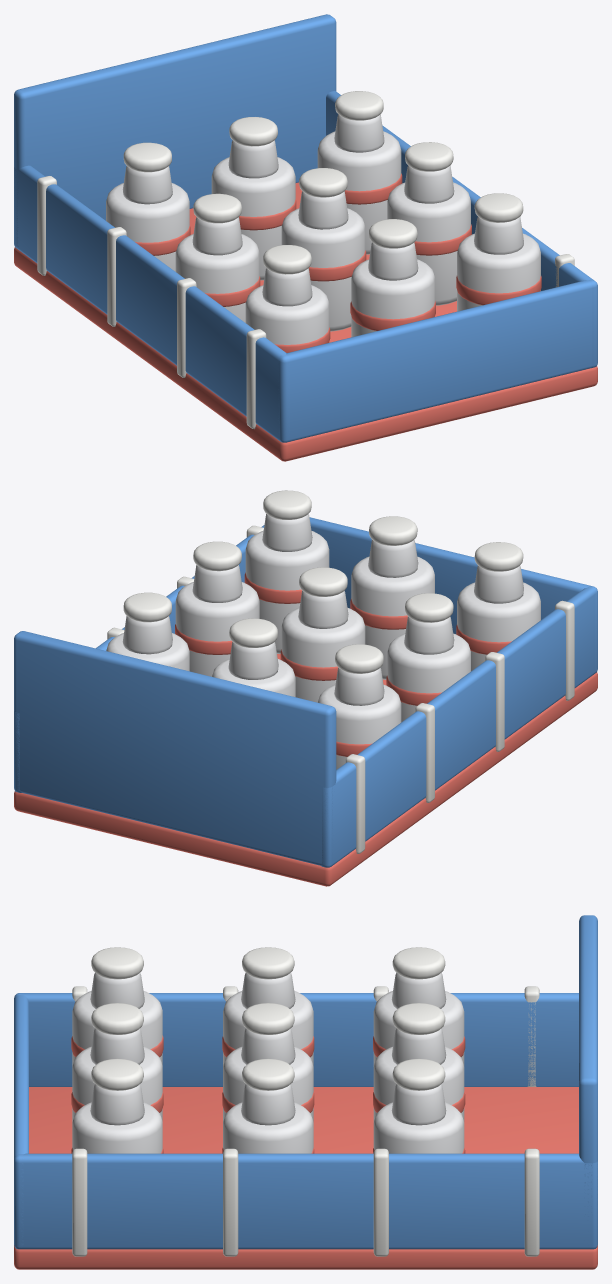
Rendered from Skrzynia_Otwarta_Banki.fbx.
3 views of the same model, one above another, from view 1: azimuth 30°, elevation 25°; view 2: azimuth 150°, elevation 25°; view 3: azimuth 270°, elevation 25° (orthographic). The views are drawn at different scales.
Visible parts, largest first — view 1: Skrzynia_Otwarta_Banki; view 2: Skrzynia_Otwarta_Banki; view 3: Skrzynia_Otwarta_Banki.
Boxes of the visible parts, left/top/right/bottom form: Skrzynia_Otwarta_Banki: left=14, top=14, right=597, bottom=461; Skrzynia_Otwarta_Banki: left=14, top=490, right=597, bottom=886; Skrzynia_Otwarta_Banki: left=14, top=915, right=597, bottom=1269.
Bounding box in the file's own units: 2.14 × 1.12 × 3.1.
